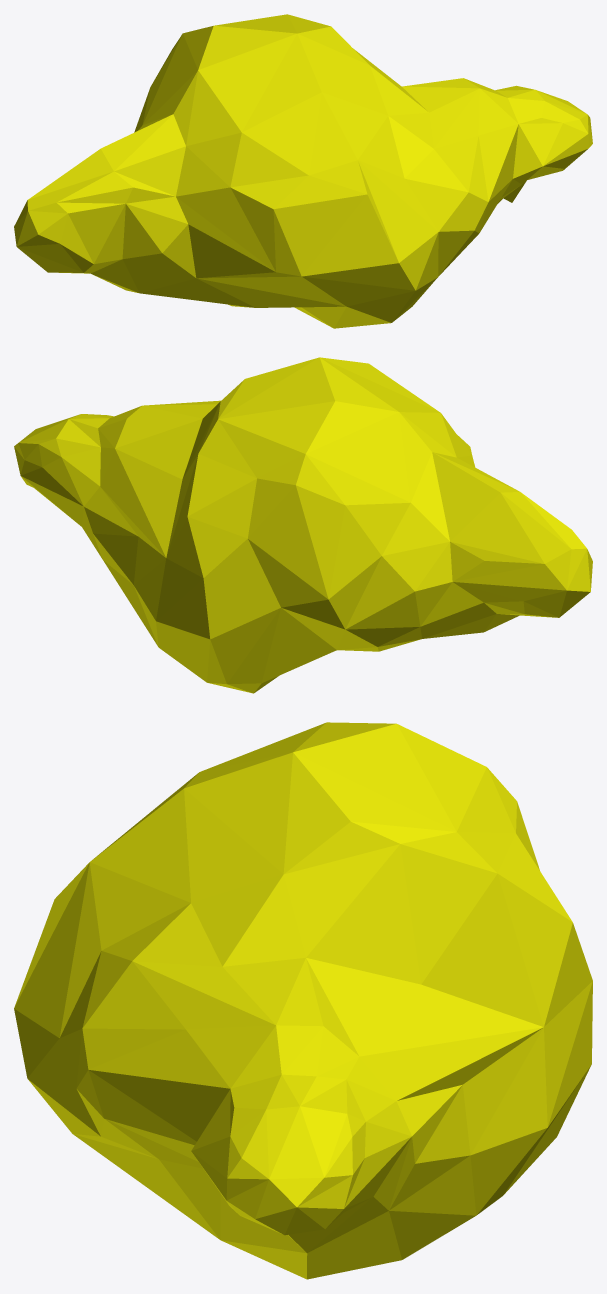
Rendered from SM_Generic_Cloud_05-optimized.glb.
The picture shows the model from 3 angles, top to bottom: view 1: azimuth 30°, elevation 25°; view 2: azimuth 150°, elevation 25°; view 3: azimuth 270°, elevation 25°; orthographic projection. The views are drawn at different scales.
Parts seen in each view (by area): view 1: SM_Generic_Cloud_05; view 2: SM_Generic_Cloud_05; view 3: SM_Generic_Cloud_05.
Part boxes in pixels (x1=…): SM_Generic_Cloud_05: x1=14, y1=14, x2=592, y2=328; SM_Generic_Cloud_05: x1=14, y1=357, x2=592, y2=693; SM_Generic_Cloud_05: x1=14, y1=722, x2=592, y2=1279.
Size of the model in its own units: 3.18 by 1.64 by 1.86.
Materials: 1 (1 with a texture image).
